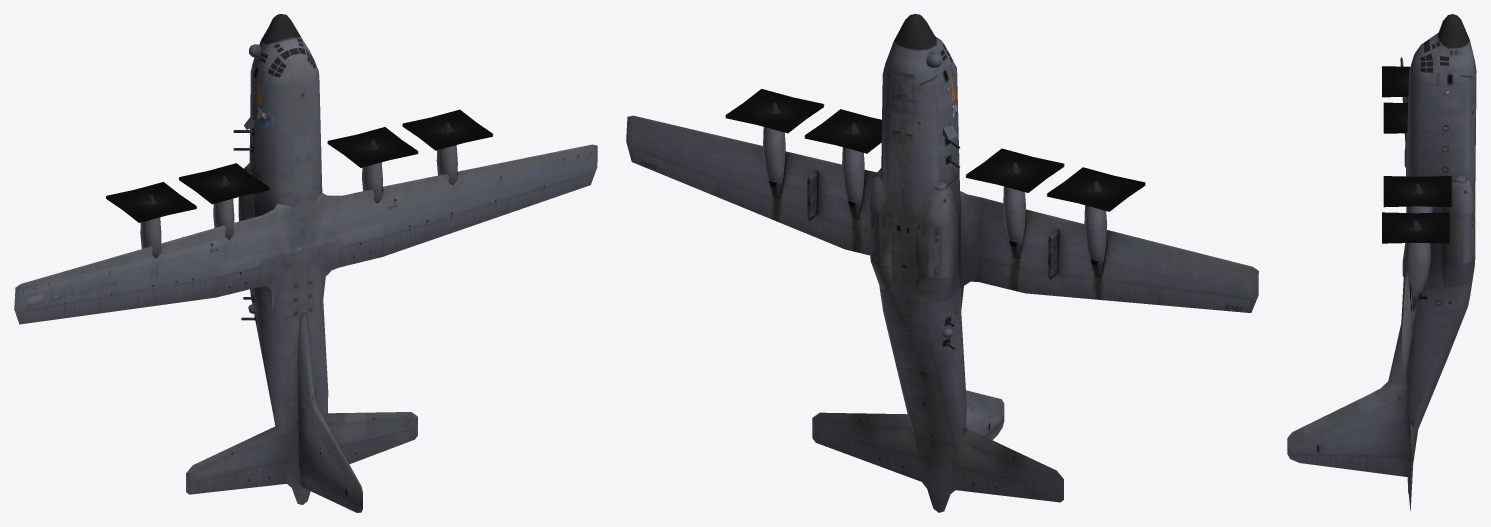
The model's file is AC-130_Hercules.obj.
The picture shows the model from 3 angles, left to right: view 1: azimuth 30°, elevation 25°; view 2: azimuth 150°, elevation 25°; view 3: azimuth 270°, elevation 25°; orthographic projection. The views are drawn at different scales.
Visible parts, largest first — view 1: LOD0, ROT_PropelerR02, ROT_PropelerL02, ROT_PropelerL01, ROT_PropelerR01; view 2: LOD0, ROT_PropelerR01, ROT_PropelerL01, ROT_PropelerL02, ROT_PropelerR02; view 3: LOD0, ROT_PropelerR02, ROT_PropelerR01, ROT_PropelerL01, ROT_PropelerL02.
Part boxes in pixels (<box>): LOD0: <box>14,14,597,512</box>; ROT_PropelerR02: <box>327,127,418,167</box>; ROT_PropelerL02: <box>179,163,269,204</box>; ROT_PropelerL01: <box>106,182,196,222</box>; ROT_PropelerR01: <box>402,109,492,150</box>; LOD0: <box>626,14,1258,512</box>; ROT_PropelerR01: <box>725,89,824,133</box>; ROT_PropelerL01: <box>1047,167,1145,211</box>; ROT_PropelerL02: <box>966,148,1064,192</box>; ROT_PropelerR02: <box>804,109,881,153</box>; LOD0: <box>1287,14,1476,510</box>; ROT_PropelerR02: <box>1383,176,1451,207</box>; ROT_PropelerR01: <box>1382,212,1449,243</box>; ROT_PropelerL01: <box>1382,66,1410,97</box>; ROT_PropelerL02: <box>1383,102,1408,133</box>.
Bounding box in the file's own units: 39.7 × 30.9 × 11.02.
2 materials, 2 textured.
